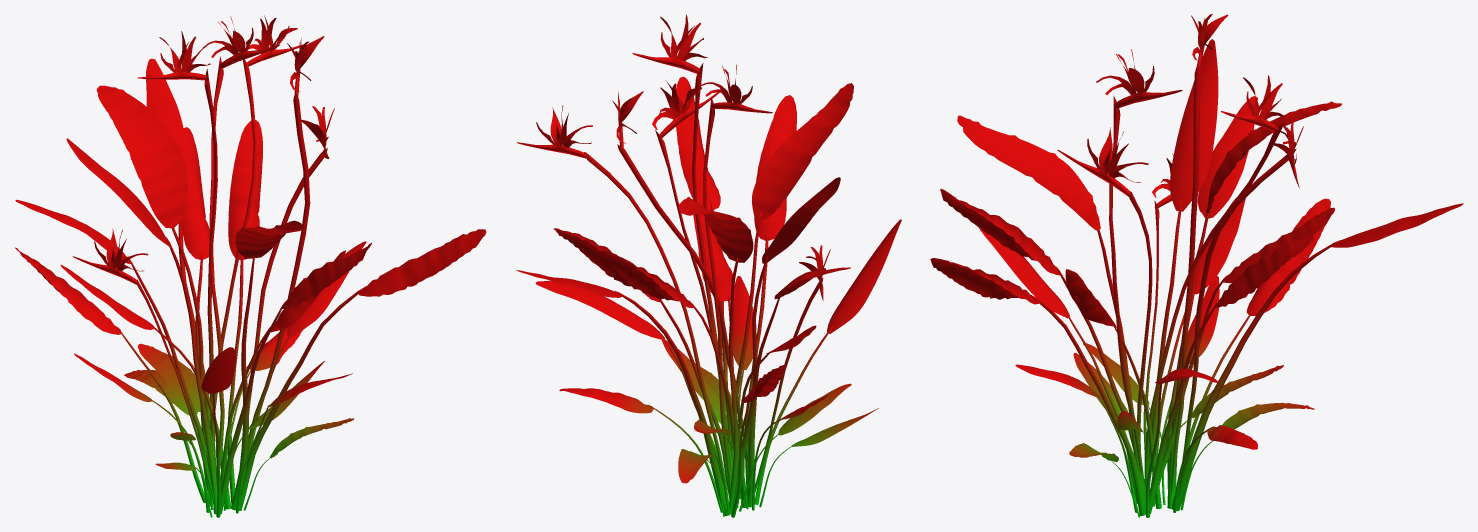
Rendered from Bird Of Paradise_LOD2_Var7_wfypeifha.fbx.
3 renders of one model, left to right at view 1: azimuth 30°, elevation 25°; view 2: azimuth 150°, elevation 25°; view 3: azimuth 270°, elevation 25°, orthographic. The views are drawn at different scales.
Parts seen in each view (by area): view 1: _4cyw_Var7_LOD2; view 2: _4cyw_Var7_LOD2; view 3: _4cyw_Var7_LOD2.
Boxes of the visible parts, box(x1,y1,x2,y2) form: _4cyw_Var7_LOD2: box(15, 15, 486, 517); _4cyw_Var7_LOD2: box(516, 14, 901, 517); _4cyw_Var7_LOD2: box(930, 14, 1463, 517).
Size of the model in its own units: 133 by 178 by 175.
